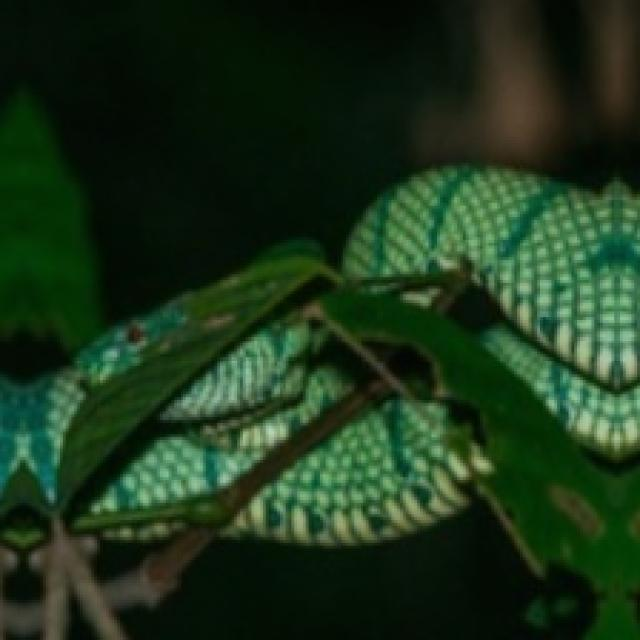north ph temple pitviper: (0, 166, 637, 637)
